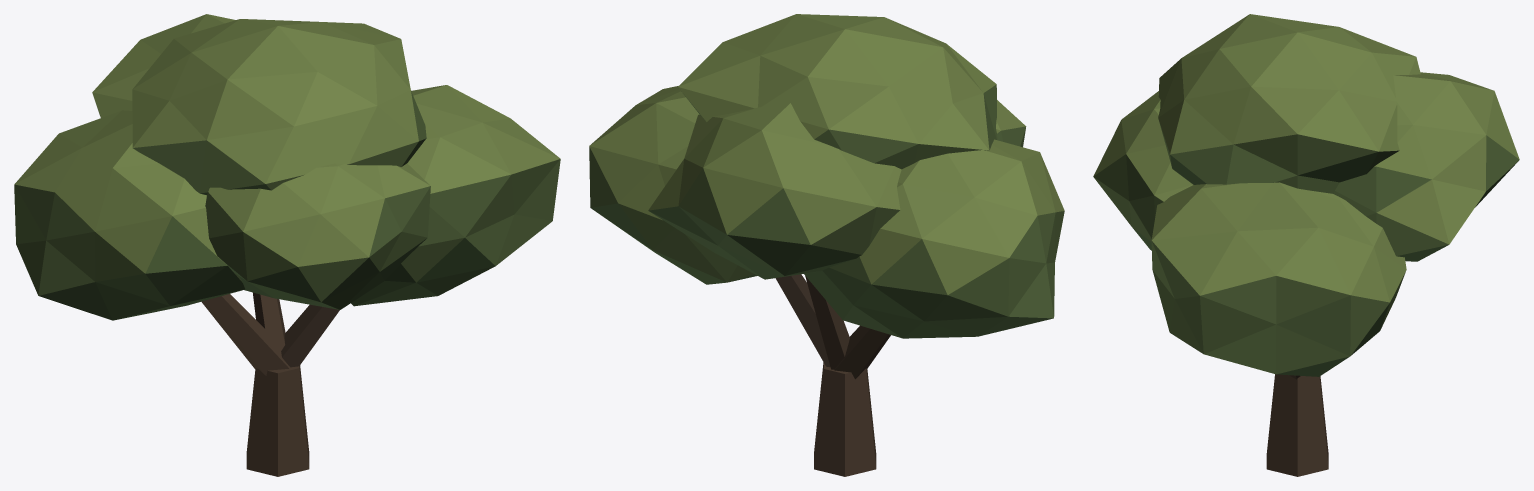
Rendered from oak.glb.
3 renders of one model, left to right at view 1: azimuth 30°, elevation 25°; view 2: azimuth 150°, elevation 25°; view 3: azimuth 270°, elevation 25°, orthographic.
Parts seen in each view (by area): view 1: oak; view 2: oak; view 3: oak.
Part boxes in pixels (box(x1,y1,x2,y2)): oak: box(14, 14, 560, 476); oak: box(589, 14, 1064, 476); oak: box(1093, 14, 1519, 476).
Size of the model in its own units: 7.28 by 6.62 by 5.96.
